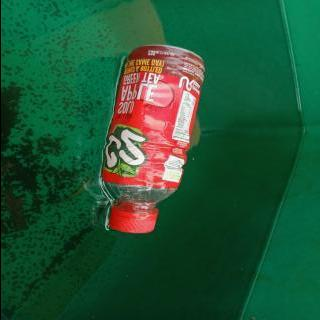bottle: (99, 43, 207, 234)
